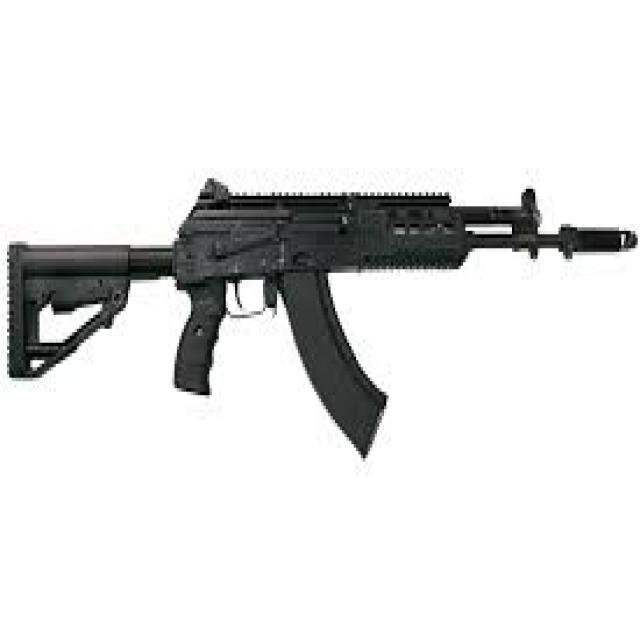rifle: (5, 178, 637, 481)
